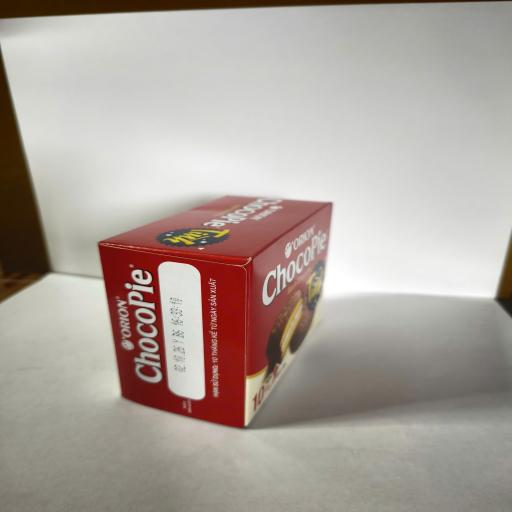chocopie: (98, 195, 333, 428)
